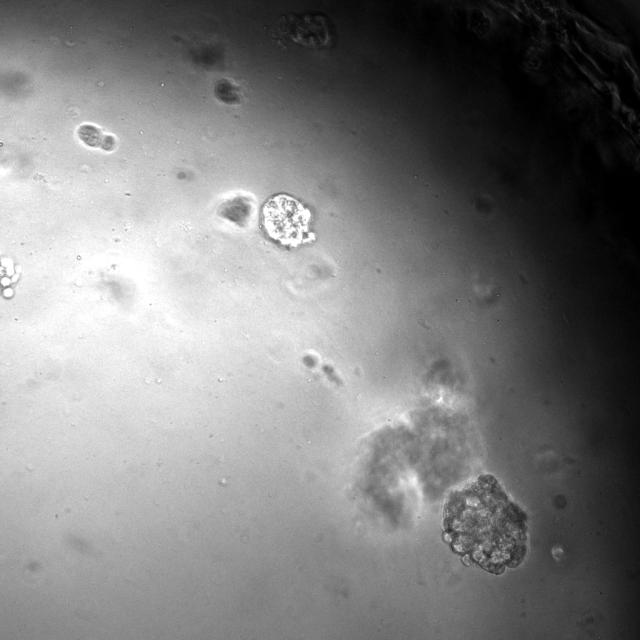organoid: (352, 359, 481, 528), (442, 474, 527, 575), (260, 193, 315, 248), (211, 190, 258, 229), (76, 123, 117, 152), (0, 255, 21, 299), (214, 77, 242, 105)
